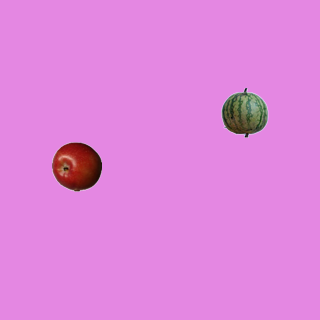Apple Braeburn: (51, 141, 101, 191)
Watermelon: (219, 87, 269, 137)
